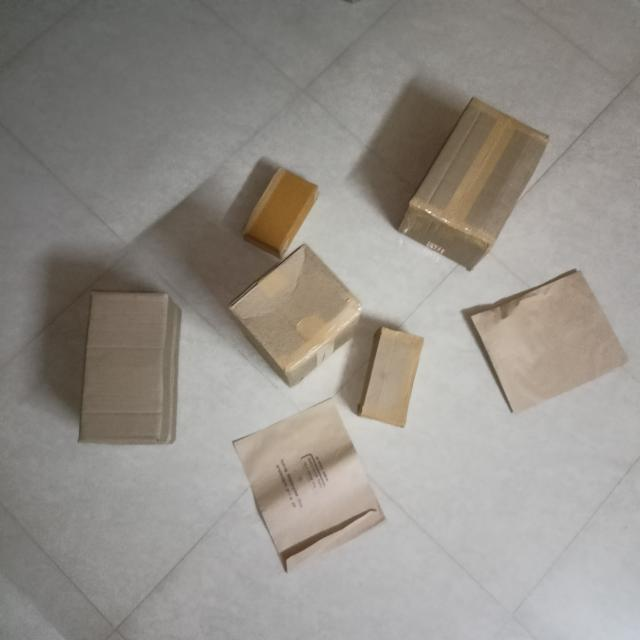box: (233, 403, 384, 574), (473, 270, 626, 417), (413, 102, 548, 245), (234, 244, 365, 370), (84, 295, 165, 452), (248, 165, 317, 253), (362, 332, 419, 428)
